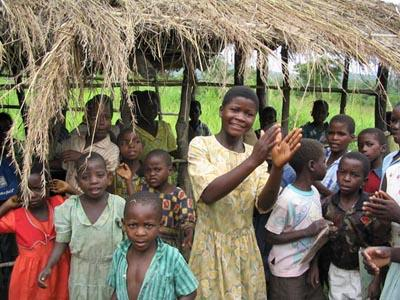person: (183, 84, 304, 300)
